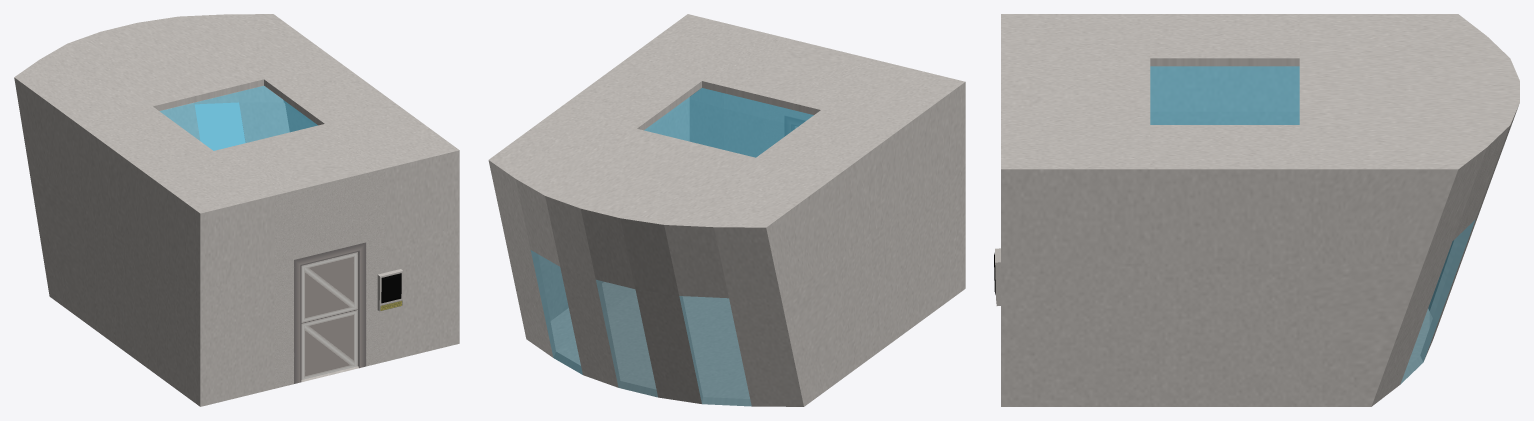
Rendered from Shed2.fbx.
3 views of the same model, side by side, from view 1: azimuth 30°, elevation 25°; view 2: azimuth 150°, elevation 25°; view 3: azimuth 270°, elevation 25° (orthographic). The views are drawn at different scales.
Visible parts, largest first — view 1: Body.001, Body, Door, Skylight, Window, Panel; view 2: Body.001, Body, Window, Skylight; view 3: Body.001, Body, Skylight, Window.
Boxes of the visible parts, left/top/right/bottom form: Body.001: left=14, top=14, right=459, bottom=290; Body: left=28, top=102, right=459, bottom=406; Door: left=301, top=251, right=358, bottom=379; Skylight: left=160, top=86, right=317, bottom=150; Window: left=195, top=103, right=244, bottom=150; Panel: left=377, top=269, right=403, bottom=311; Body.001: left=488, top=14, right=965, bottom=298; Body: left=503, top=99, right=965, bottom=406; Window: left=531, top=250, right=751, bottom=406; Skylight: left=644, top=88, right=813, bottom=157; Body.001: left=1001, top=14, right=1519, bottom=263; Body: left=1001, top=111, right=1484, bottom=406; Skylight: left=1150, top=66, right=1299, bottom=124; Window: left=1400, top=220, right=1474, bottom=384.
Bounding box in the file's own units: 440 × 313 × 629.
4 materials, 2 textured.
